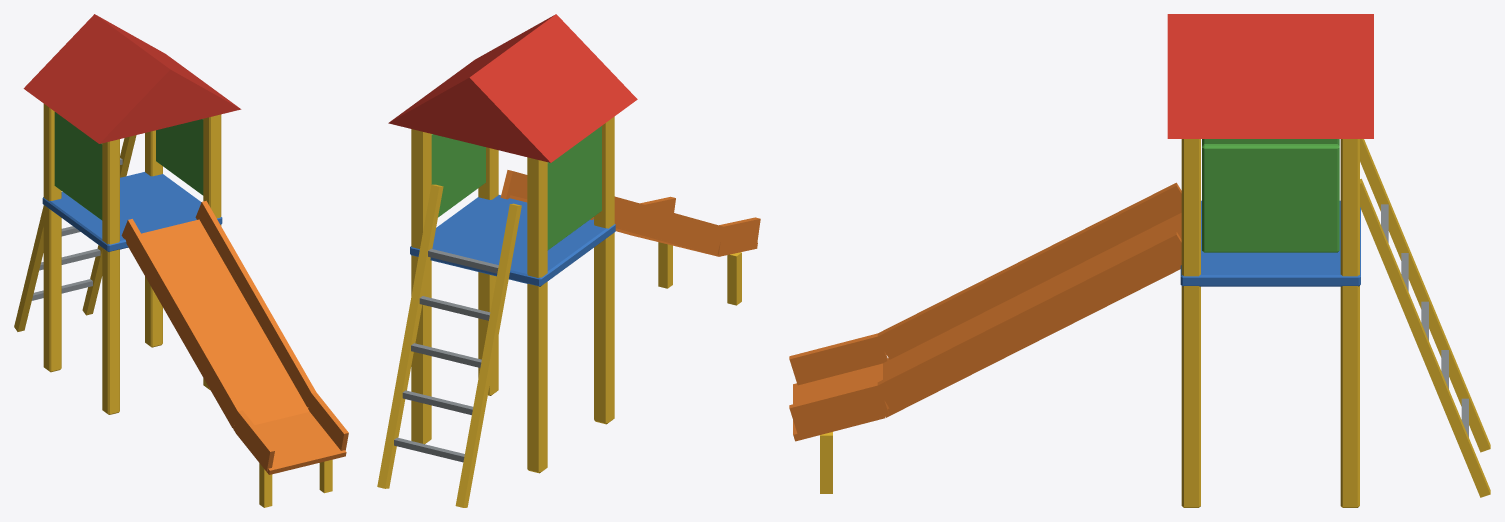
Rendered from escorregador.glb.
3 renders of one model, left to right at view 1: azimuth 30°, elevation 25°; view 2: azimuth 150°, elevation 25°; view 3: azimuth 270°, elevation 25°, orthographic. The views are drawn at different scales.
Parts seen in each view (by area): view 1: escorregador; view 2: escorregador; view 3: escorregador.
Part boxes in pixels (bbox=[...]): escorregador: bbox=[14, 14, 348, 507]; escorregador: bbox=[377, 14, 760, 507]; escorregador: bbox=[789, 14, 1490, 507].
Bounding box in the file's own units: 1.04 × 2.36 × 3.27.
